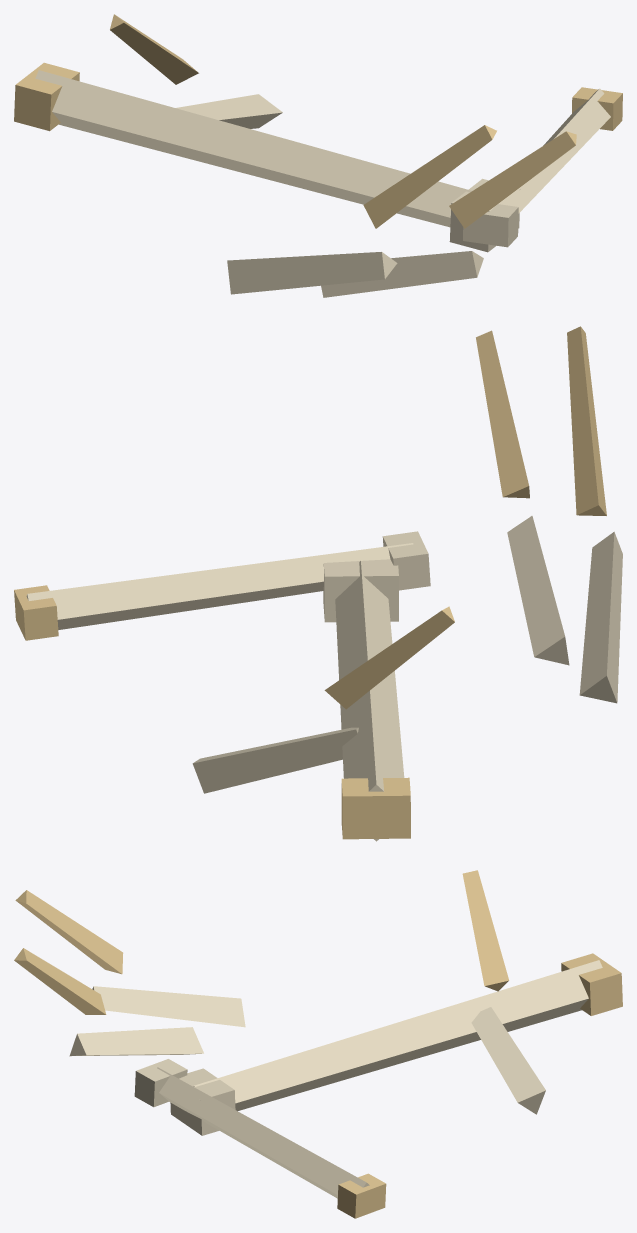
The model's file is bleached_bones.glb.
3 views of the same model, one above another, from view 1: azimuth 30°, elevation 25°; view 2: azimuth 150°, elevation 25°; view 3: azimuth 270°, elevation 25° (orthographic). The views are drawn at different scales.
Parts seen in each view (by area): view 1: bleached_bones; view 2: bleached_bones; view 3: bleached_bones.
Boxes of the visible parts, x1,y1,x2,y2 form: bleached_bones: (14, 14, 622, 297); bleached_bones: (14, 326, 622, 841); bleached_bones: (14, 870, 622, 1218).
Bounding box in the file's own units: 0.4468 × 0.1962 × 0.5374.
Materials: 1 (1 with a texture image).
